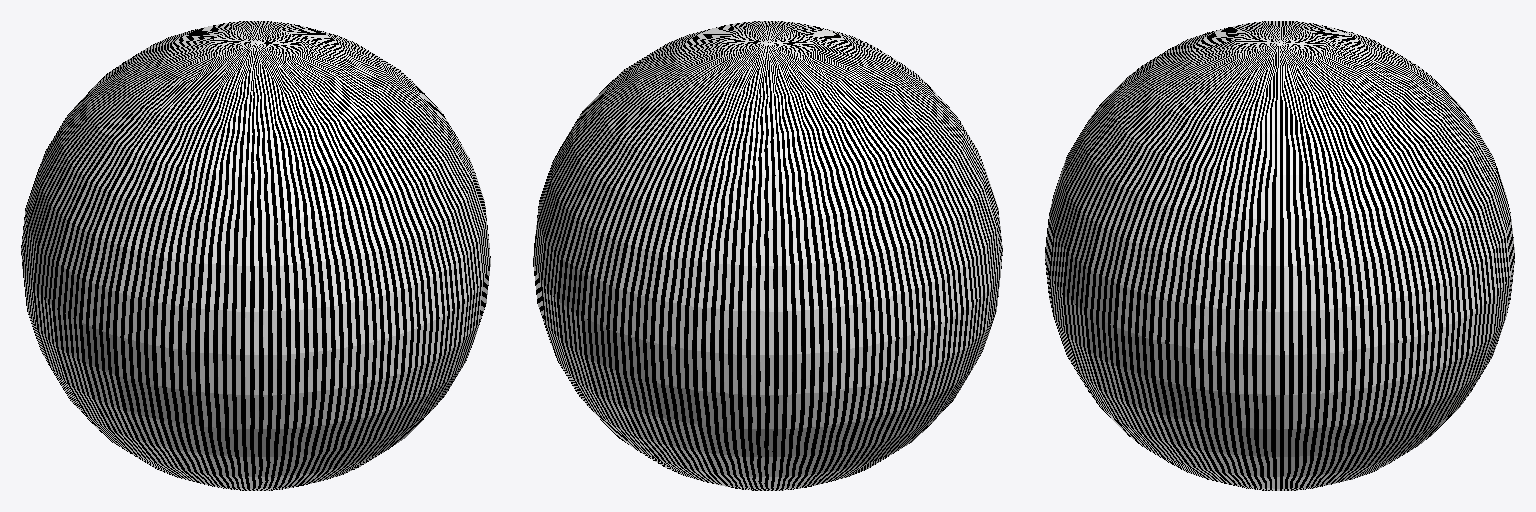
3 renders of one model, left to right at view 1: azimuth 30°, elevation 25°; view 2: azimuth 150°, elevation 25°; view 3: azimuth 270°, elevation 25°, orthographic.
Parts seen in each view (by area): view 1: Sphere; view 2: Sphere; view 3: Sphere.
Part boxes in pixels (left/top/right/bottom): Sphere: left=21, top=21, right=490, bottom=490; Sphere: left=533, top=21, right=1002, bottom=490; Sphere: left=1045, top=21, right=1514, bottom=490.
Size of the model in its own units: 1.48 by 1.48 by 1.48.
Materials: 1 (1 with a texture image).